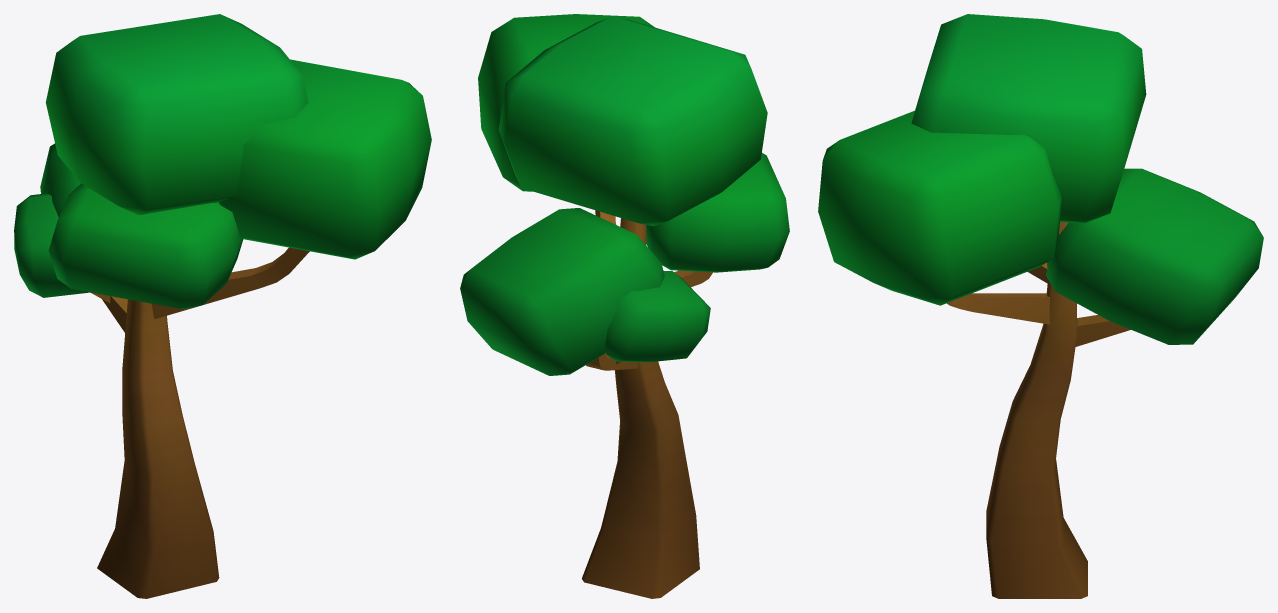
Rendered from Tree_F_7_.fbx.
3 renders of one model, left to right at view 1: azimuth 30°, elevation 25°; view 2: azimuth 150°, elevation 25°; view 3: azimuth 270°, elevation 25°, orthographic. The views are drawn at different scales.
Parts seen in each view (by area): view 1: Tree_F_7; view 2: Tree_F_7; view 3: Tree_F_7.
Part boxes in pixels (x1,y1,x2,y2): Tree_F_7: (14, 14, 431, 598); Tree_F_7: (460, 14, 789, 598); Tree_F_7: (818, 14, 1263, 598).
Bounding box in the file's own units: 295 × 437 × 329.
